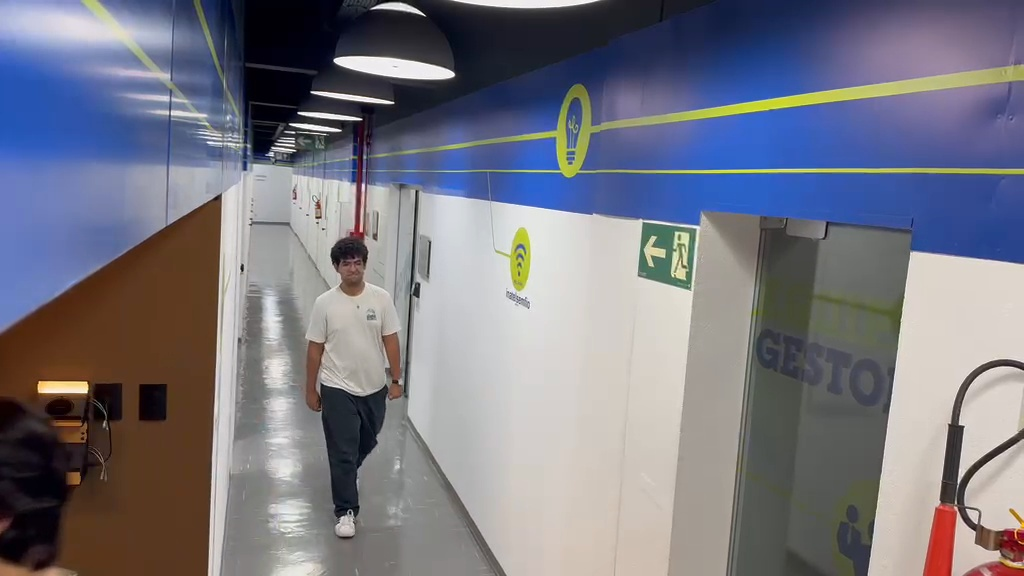person: (303, 234, 403, 540), (1, 399, 72, 570)
